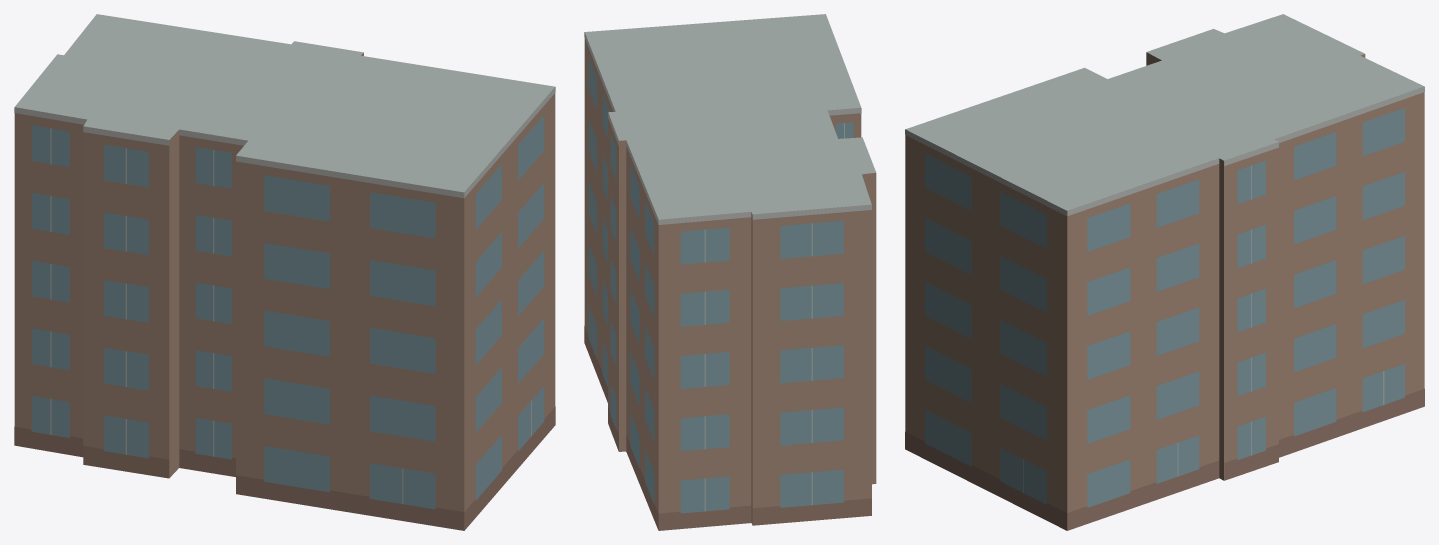
Rendered from survey-upis-32974654.glb.
3 views of the same model, side by side, from view 1: azimuth 30°, elevation 25°; view 2: azimuth 150°, elevation 25°; view 3: azimuth 270°, elevation 25° (orthographic). The views are drawn at different scales.
Parts seen in each view (by area): view 1: survey-upis-32974654.tmp; view 2: survey-upis-32974654.tmp; view 3: survey-upis-32974654.tmp.
Part boxes in pixels (bbox=[...]): survey-upis-32974654.tmp: bbox=[14, 14, 555, 530]; survey-upis-32974654.tmp: bbox=[584, 14, 876, 530]; survey-upis-32974654.tmp: bbox=[905, 14, 1424, 530].
Bounding box in the file's own units: 18.74 × 14.2 × 20.9.
